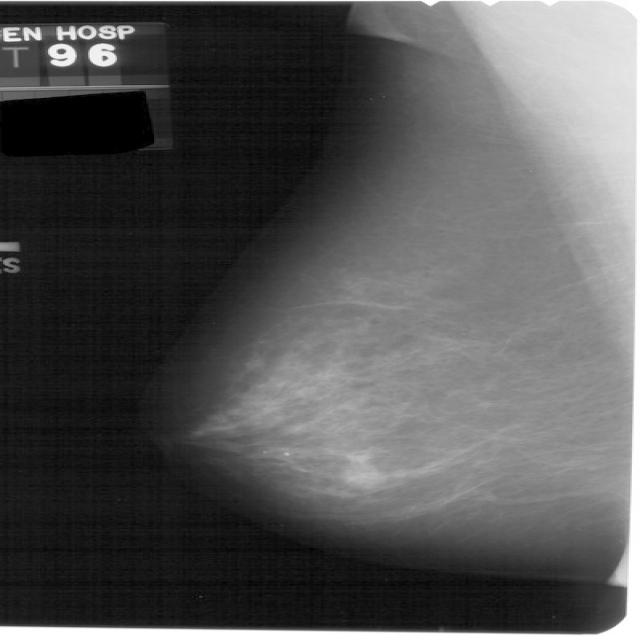tumour: (342, 460, 383, 487)
